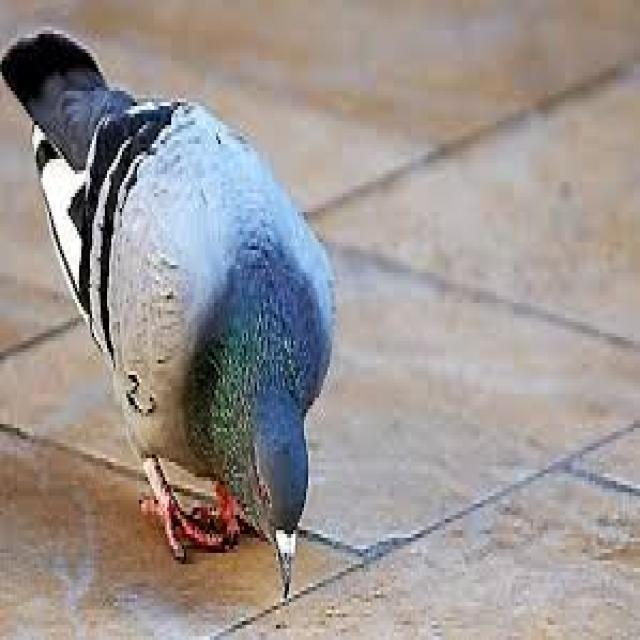pigeon: (0, 0, 340, 640)
